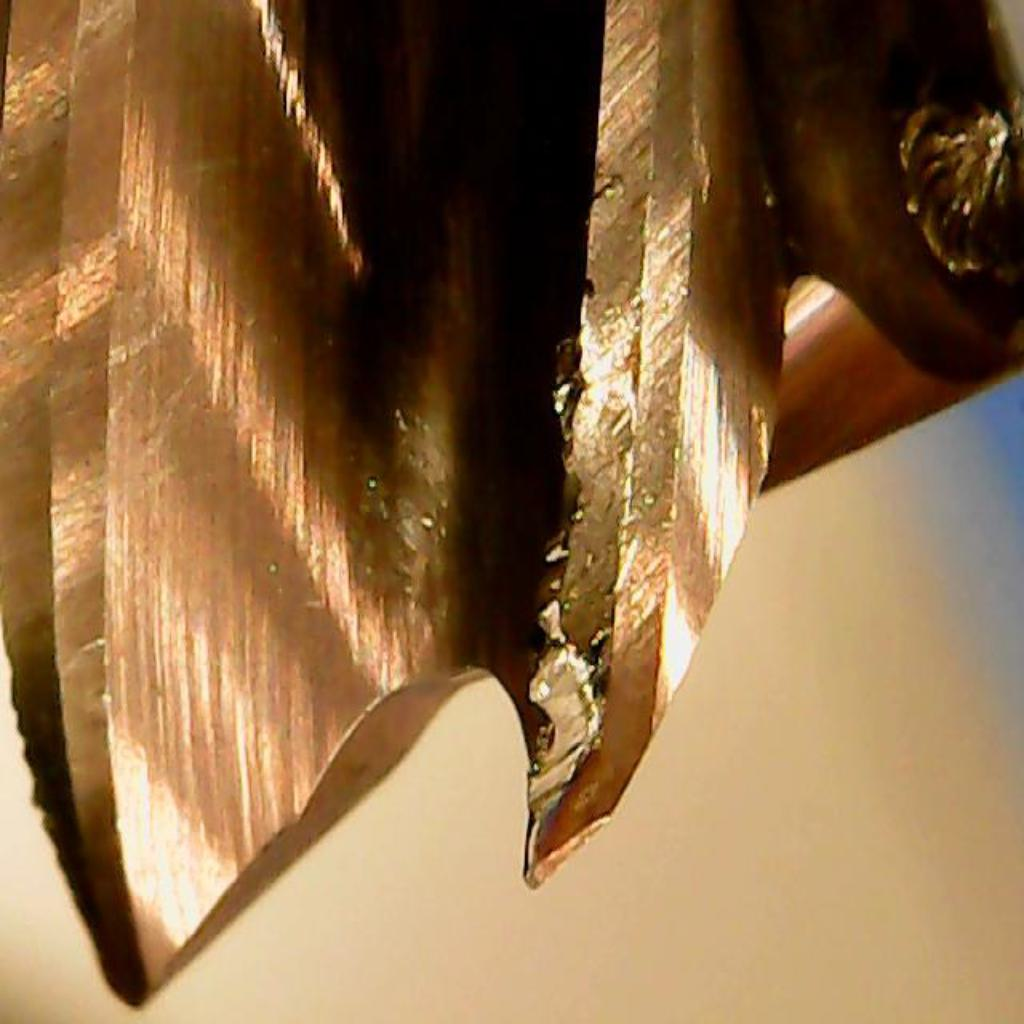Tool-wear-class-2: (481, 407, 783, 908)
